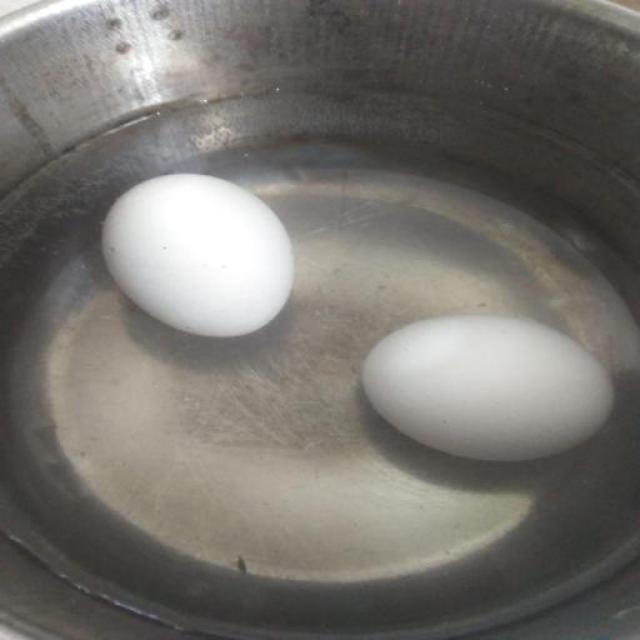telur: (358, 314, 604, 462), (102, 173, 294, 339)
